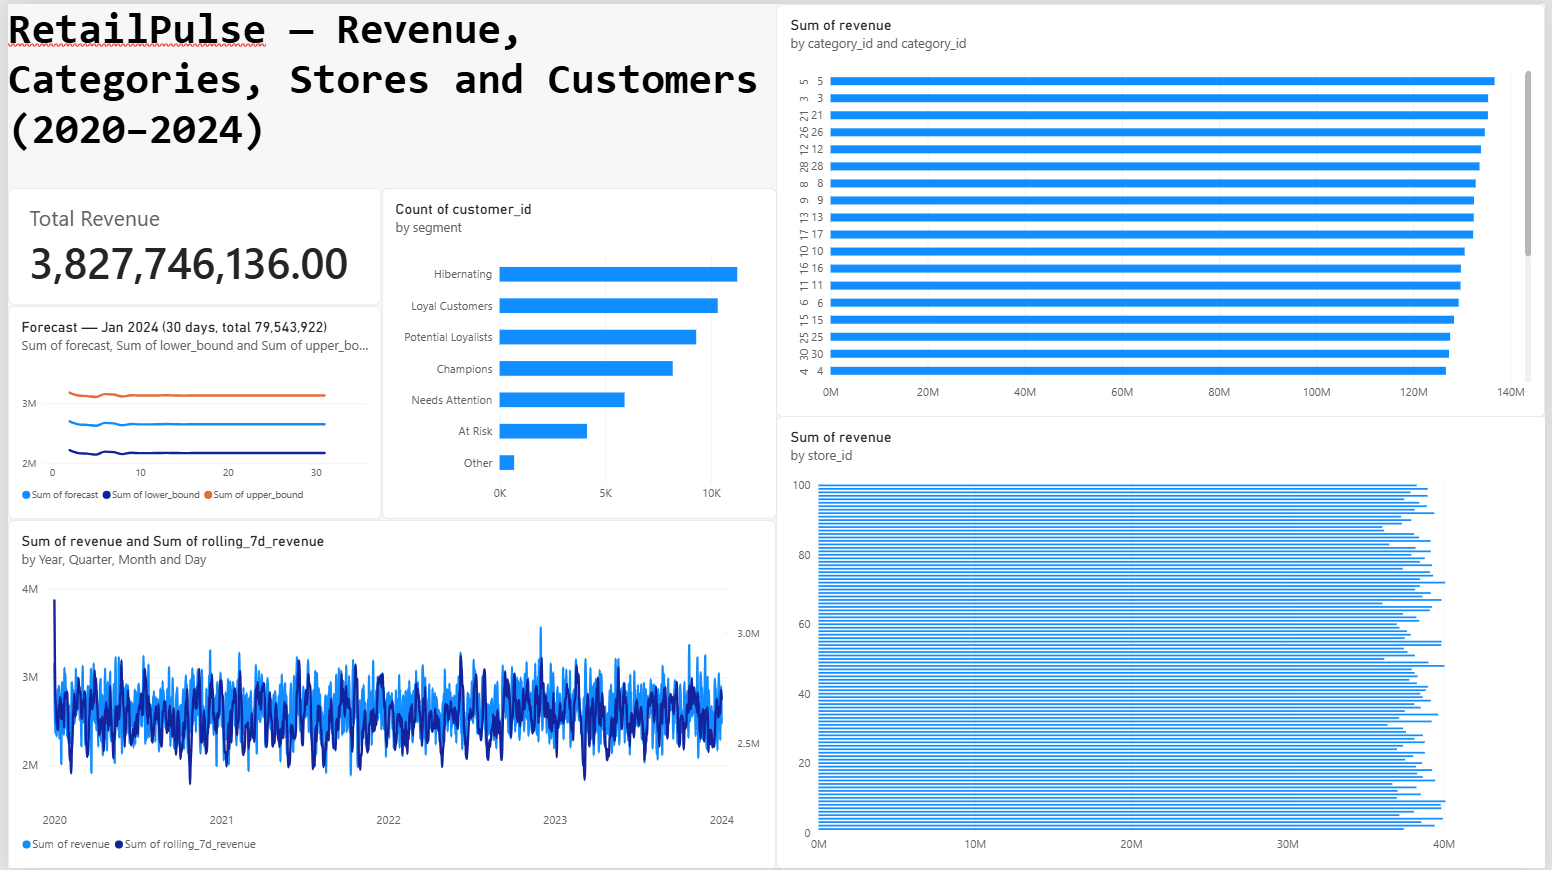

Layout of this report page (visuals, bound fields, positions):
{"tool":"powerbi","page":{"name":"Page 1","canvas":[1920,1080],"ordinal":0},"visuals":[{"type":"cardVisual","fields":{"Data":["gold daily_sales.Total Revenue"]},"box":[0,230,466.7,146.7],"z":0},{"type":"lineChart","fields":{"Category":["gold v_daily_trend.order_date.Variation.Date Hierarchy.Year","gold v_daily_trend.order_date.Variation.Date Hierarchy.Quarter","gold v_daily_trend.order_date.Variation.Date Hierarchy.Month","gold v_daily_trend.order_date.Variation.Date Hierarchy.Day"],"Y":["Sum(gold v_daily_trend.revenue)"],"Y2":["Sum(gold v_daily_trend.rolling_7d_revenue)"]},"box":[0,643.8,960,436.8],"z":1000},{"type":"barChart","fields":{"Category":["gold v_top_categories.category_id","gold v_top_categories.category_id"],"Y":["Sum(gold v_top_categories.revenue)","select"]},"box":[960,0,960,516.7],"z":2000},{"type":"barChart","fields":{"Category":["gold v_top_stores.store_id"],"Y":["Sum(gold v_top_stores.revenue)"]},"box":[960,514.1,962.3,566.4],"z":3000},{"type":"clusteredBarChart","fields":{"Category":["gold rfm_customers.segment"],"Y":["CountNonNull(gold rfm_customers.customer_id)"]},"box":[466.7,230,493.3,413.3],"z":4000},{"type":"textbox","box":[0,0,960,230],"z":5000},{"type":"lineChart","fields":{"Category":["gold forecast_daily.order_date.Variation.Date Hierarchy.Year","gold forecast_daily.order_date.Variation.Date Hierarchy.Quarter","gold forecast_daily.order_date.Variation.Date Hierarchy.Month","gold forecast_daily.order_date.Variation.Date Hierarchy.Day"],"Y":["Sum(gold forecast_daily.forecast)","Sum(gold forecast_daily.lower_bound)","Sum(gold forecast_daily.upper_bound)"]},"box":[0,376.7,466.7,266.7],"z":5001}]}

Visuals, with their boxes in screenshot pixels (x1, y1, x2, y2), scaled from the page's 1920x1080 canvas onto the 1552x870 screenshot:
cardVisual - gold daily_sales.Total Revenue: 0 185 377 303
lineChart - gold v_daily_trend.order_date.Variation.Date Hierarchy.Year x gold v_daily_trend.order_date.Variation.Date Hierarchy.Quarter: 0 519 776 869
barChart - gold v_top_categories.category_id x gold v_top_categories.category_id: 776 0 1551 416
barChart - gold v_top_stores.store_id x Sum(gold v_top_stores.revenue): 776 414 1551 869
clusteredBarChart - gold rfm_customers.segment x CountNonNull(gold rfm_customers.customer_id): 377 185 776 518
textbox: 0 0 776 185
lineChart - gold forecast_daily.order_date.Variation.Date Hierarchy.Year x gold forecast_daily.order_date.Variation.Date Hierarchy.Quarter: 0 303 377 518
